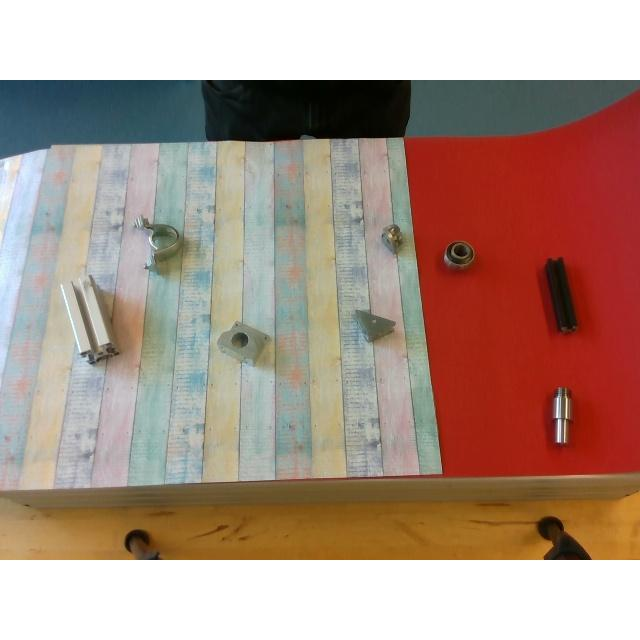Axis2: (552, 386, 572, 442)
Bearing2: (444, 240, 474, 264)
F20_20_B: (544, 258, 576, 329)
Housing: (134, 217, 182, 267)
S40_40_G: (59, 276, 118, 360)
